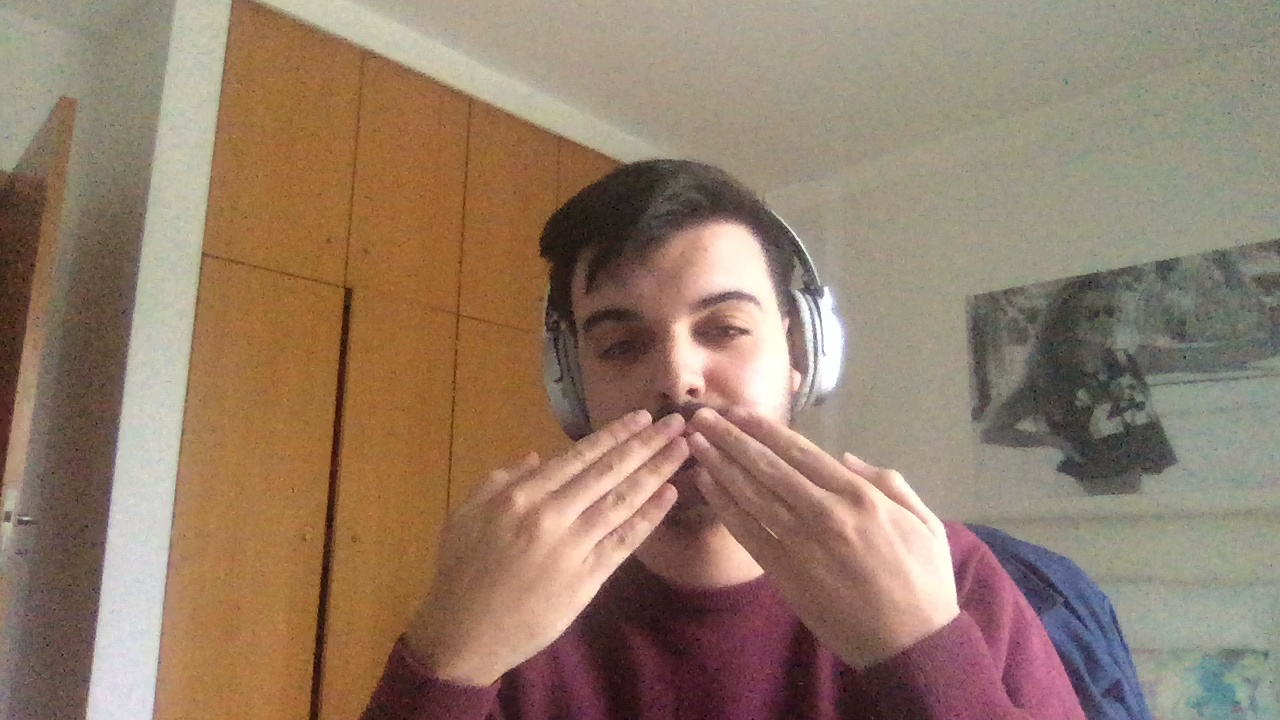ThankYou: (436, 406, 958, 631)
